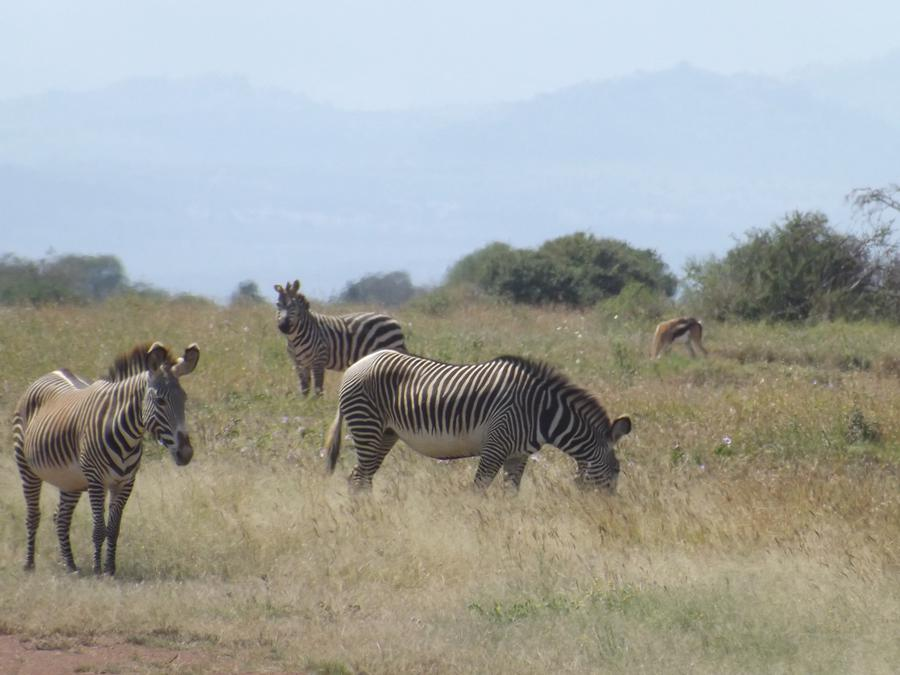zebra_grevys: (336, 343, 525, 458)
